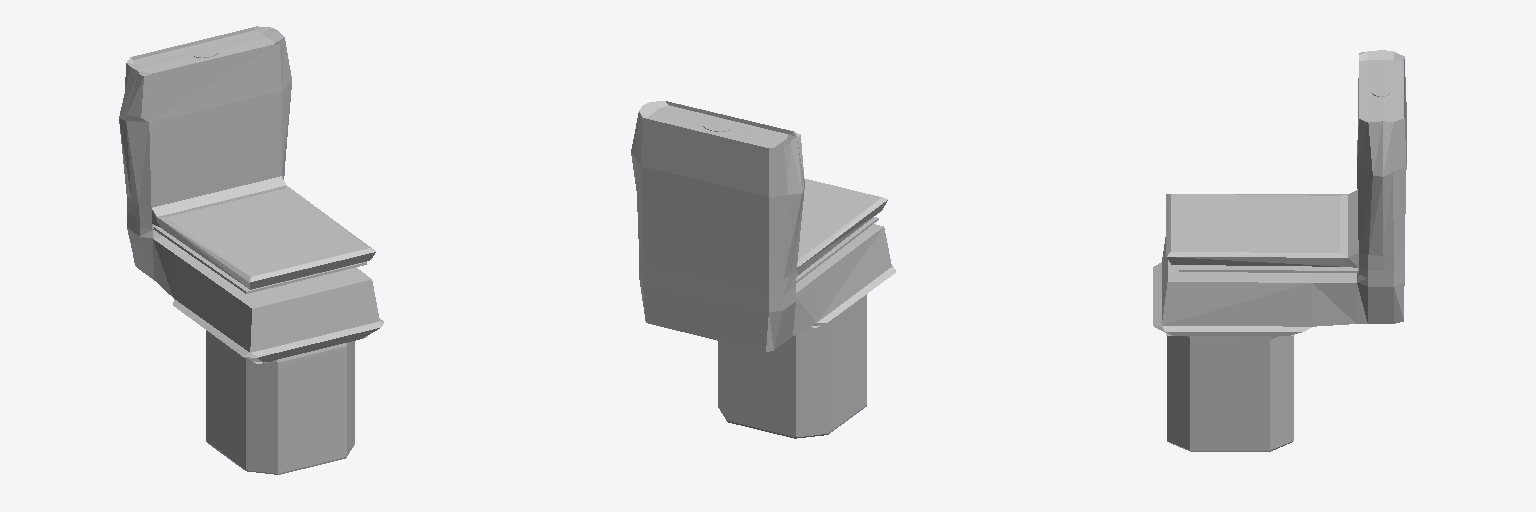
File: vater.obj
3 renders of one model, left to right at view 1: azimuth 30°, elevation 25°; view 2: azimuth 150°, elevation 25°; view 3: azimuth 270°, elevation 25°, orthographic.
Parts seen in each view (by area): view 1: Cube_Cube.002; view 2: Cube_Cube.002; view 3: Cube_Cube.002.
Part boxes in pixels (left/top/right/bottom): Cube_Cube.002: left=119, top=26, right=383, bottom=474; Cube_Cube.002: left=631, top=101, right=895, bottom=438; Cube_Cube.002: left=1153, top=50, right=1406, bottom=451.
Size of the model in its own units: 3.07 by 5.82 by 3.93.